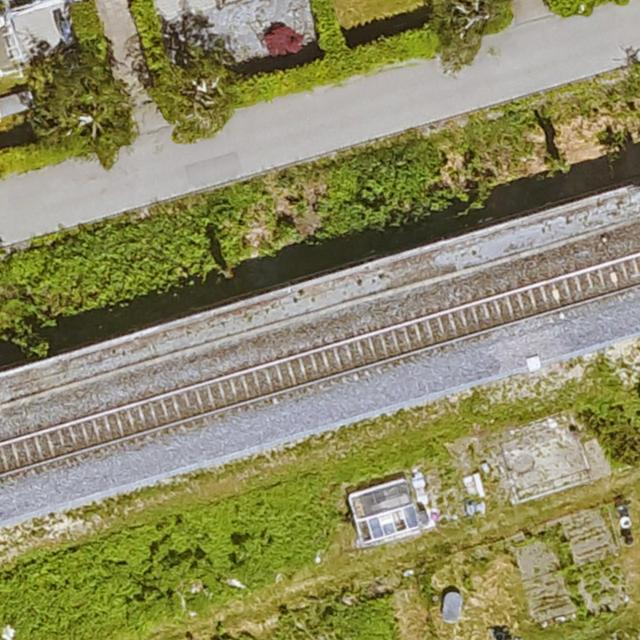tree: (24, 44, 139, 156), (148, 46, 236, 143), (425, 0, 512, 68), (521, 0, 640, 20)
